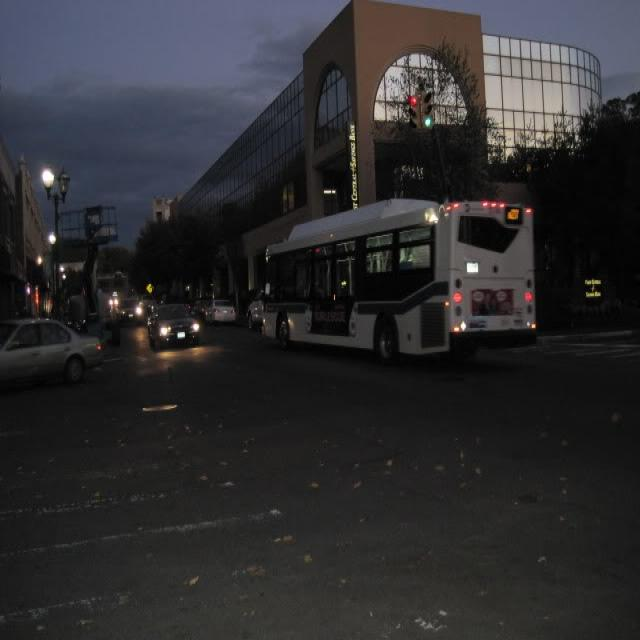Bus: (244, 188, 565, 398)
car: (0, 295, 104, 397), (197, 272, 264, 343), (158, 290, 206, 373), (112, 279, 149, 338)
